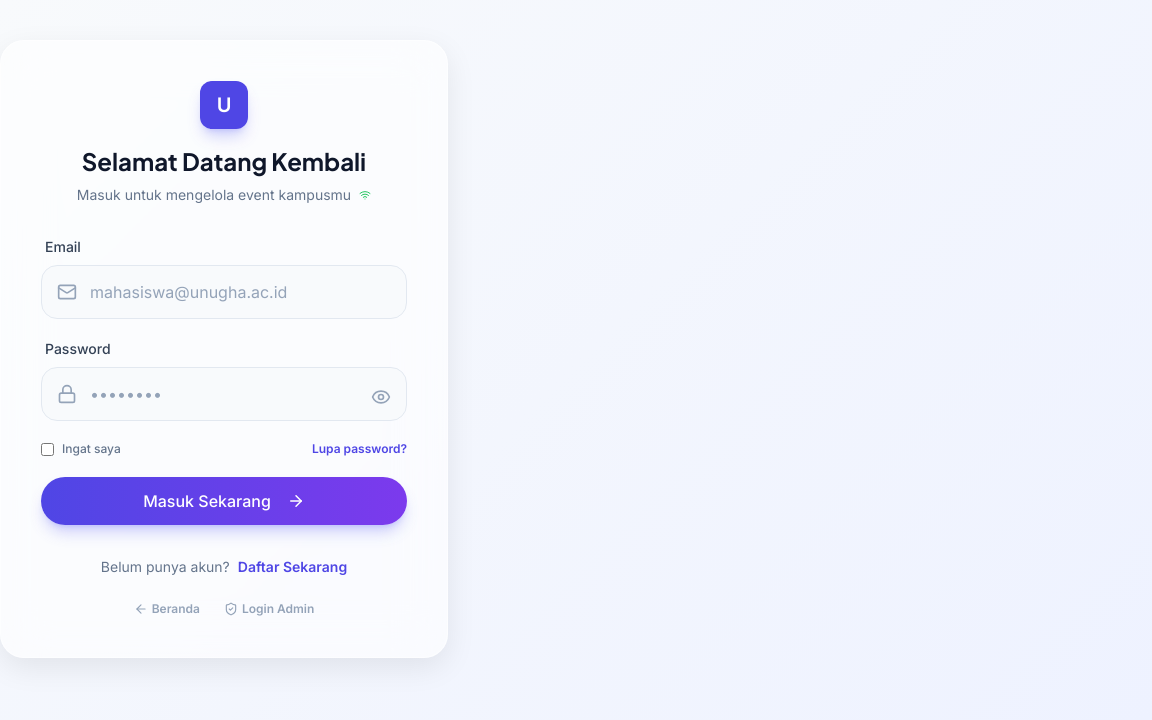
Test: Login Page › handles invalid credentials specific error
Step 1. Type "test@test.com" into the field labelled "Email" → (224, 292), box [41,265,407,319]
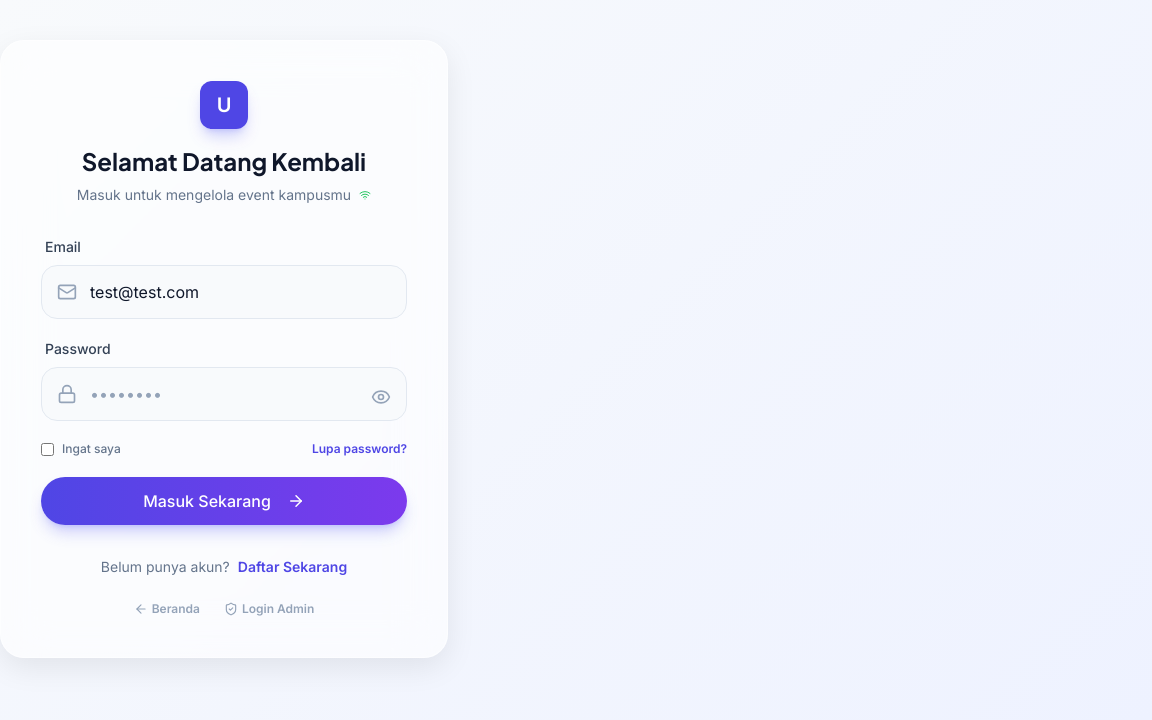
Step 2. Type "pass" into the password field labelled "Password" → (224, 394), box [41,367,407,421]
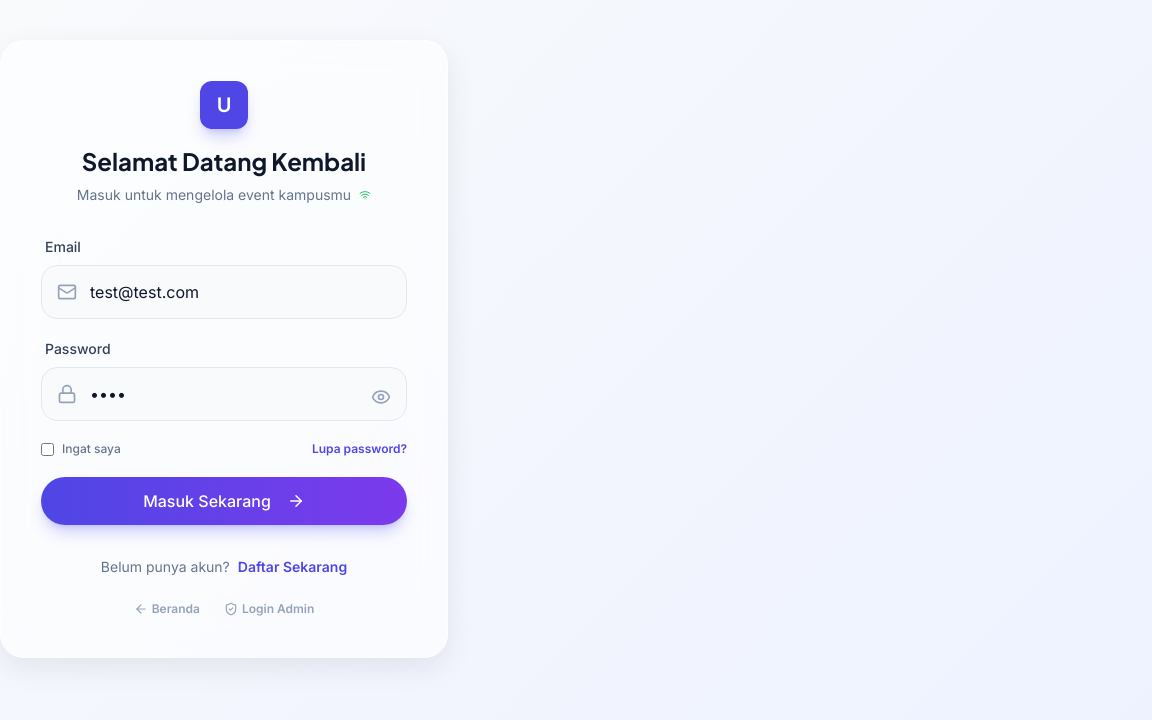
Step 3. Click the button "Masuk Sekarang" → (224, 501), box [41,477,407,525]
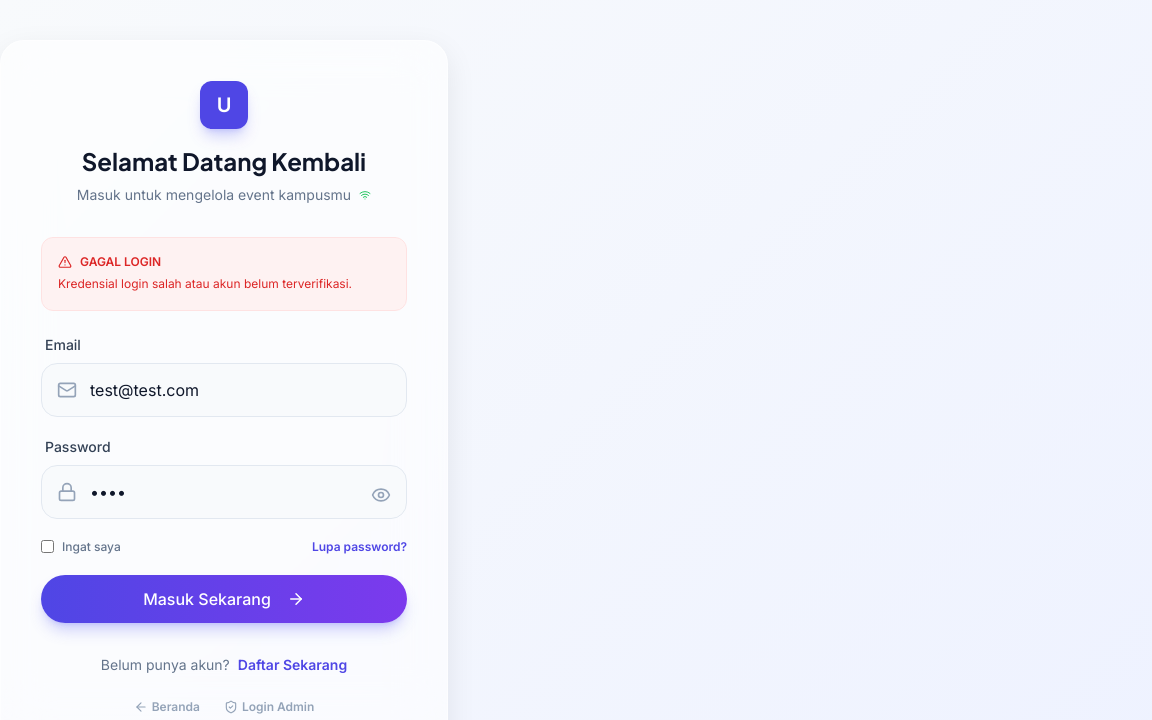
Expected: the text "Kredensial login salah atau akun belum terverifikasi." is shown, [58,274,390,294]
